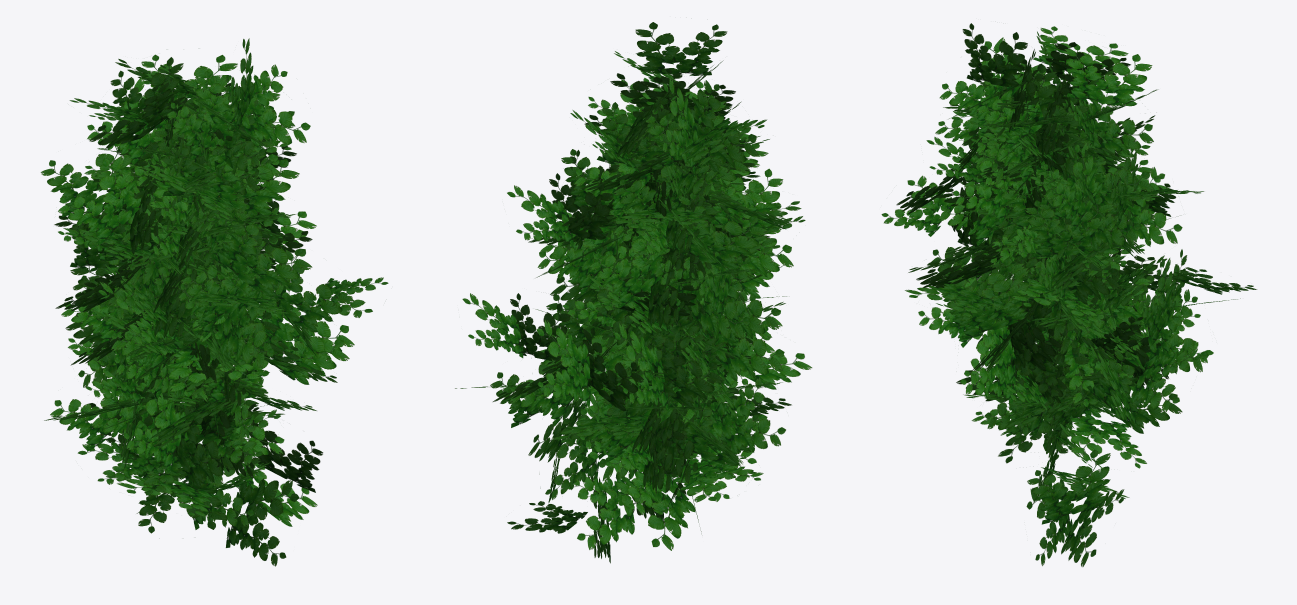
The model's file is juniper.gltf.
The picture shows the model from 3 angles, left to right: view 1: azimuth 30°, elevation 25°; view 2: azimuth 150°, elevation 25°; view 3: azimuth 270°, elevation 25°; orthographic projection. The views are drawn at different scales.
Visible parts, largest first — view 1: leaves; view 2: leaves; view 3: leaves.
Boxes of the visible parts, x1=… form: leaves: x1=40, y1=38, x2=388, y2=566; leaves: x1=455, y1=22, x2=812, y2=563; leaves: x1=881, y1=23, x2=1256, y2=566.
Size of the model in its own units: 245 by 415 by 288.
1 material, 1 textured.
